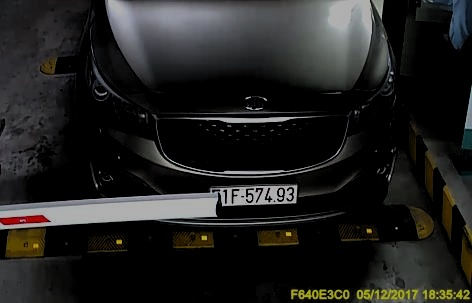plate: (210, 184, 298, 209)
